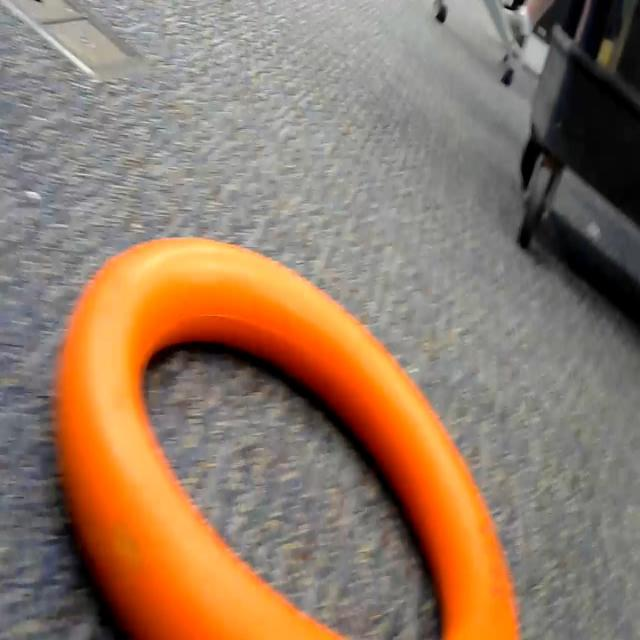note: (0, 222, 523, 640)
